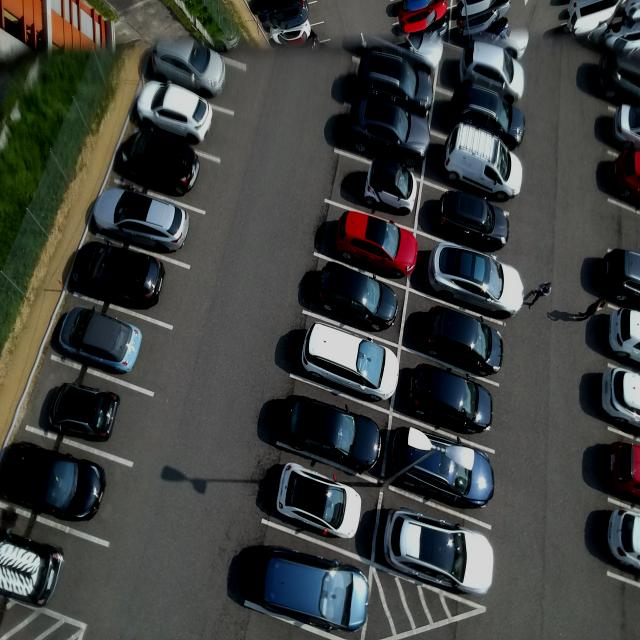car: (382, 506, 497, 602), (259, 544, 372, 634), (393, 425, 498, 514), (2, 443, 108, 530), (275, 392, 383, 476), (299, 318, 402, 406), (427, 243, 525, 322), (405, 364, 499, 444), (91, 187, 194, 258), (278, 461, 365, 544), (70, 243, 167, 315), (315, 262, 400, 342), (418, 304, 510, 373), (332, 212, 424, 281), (57, 304, 145, 376), (344, 100, 432, 170), (352, 49, 438, 118), (441, 128, 526, 196), (134, 78, 213, 148), (121, 133, 201, 200), (453, 78, 531, 145), (437, 189, 516, 253), (48, 379, 121, 447), (365, 157, 417, 225)
